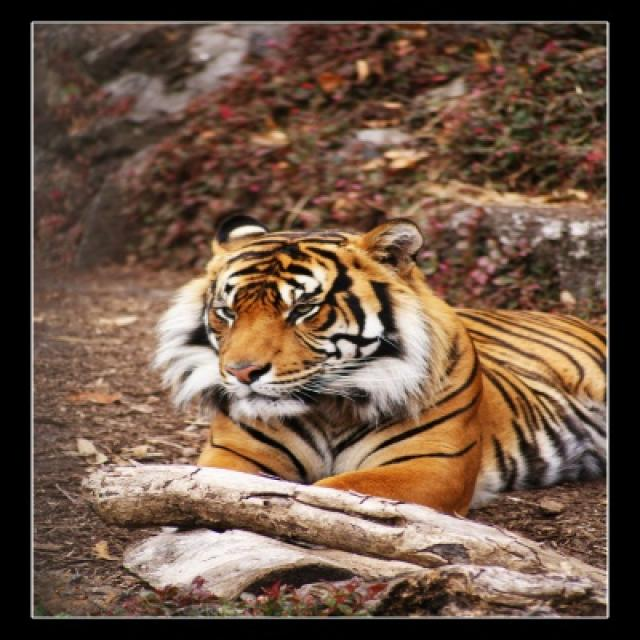Tiger: (154, 214, 603, 514)
